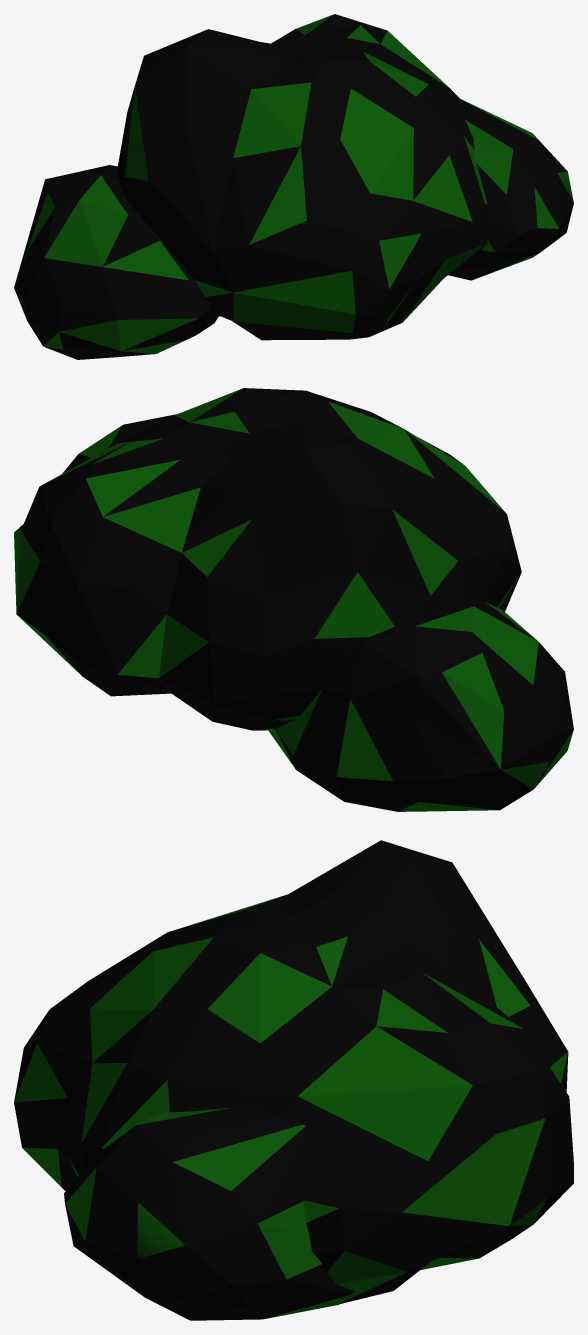
File: SM_Landscape_Cloud_01.FBX
The picture shows the model from 3 angles, top to bottom: view 1: azimuth 30°, elevation 25°; view 2: azimuth 150°, elevation 25°; view 3: azimuth 270°, elevation 25°; orthographic projection. The views are drawn at different scales.
Visible parts, largest first — view 1: SM_Landscape_Cloud_01; view 2: SM_Landscape_Cloud_01; view 3: SM_Landscape_Cloud_01.
Boxes of the visible parts, box(x1,y1,x2,y2) form: SM_Landscape_Cloud_01: box(14, 14, 573, 359); SM_Landscape_Cloud_01: box(14, 388, 573, 811); SM_Landscape_Cloud_01: box(14, 840, 573, 1320).
Size of the model in its own units: 611 by 458 by 345.
